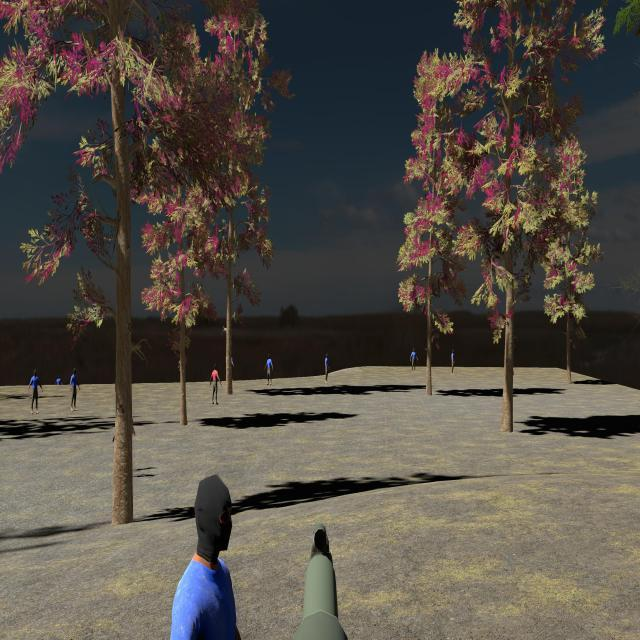Human: (28, 368, 43, 414), (210, 363, 221, 406), (265, 353, 273, 386)
